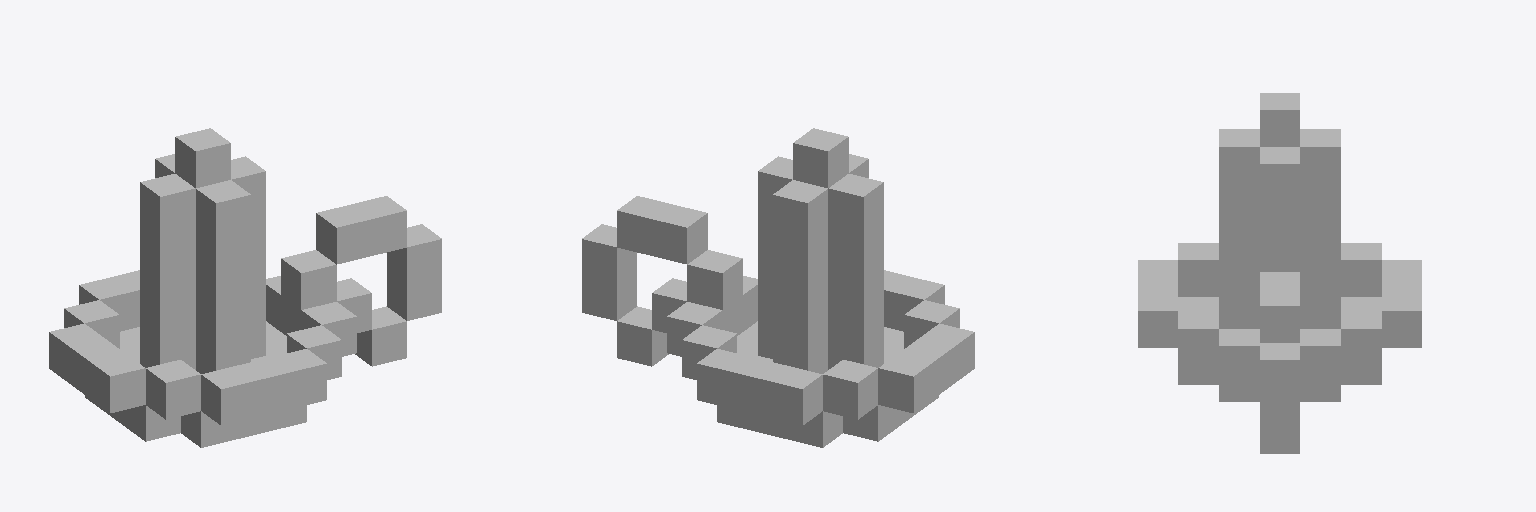
File: Candle.obj
3 renders of one model, left to right at view 1: azimuth 30°, elevation 25°; view 2: azimuth 150°, elevation 25°; view 3: azimuth 270°, elevation 25°, orthographic.
Visible parts, largest first — view 1: Candle; view 2: Candle; view 3: Candle.
Boxes of the visible parts, <box> form: Candle: <box>49,128,441,447</box>; Candle: <box>582,128,974,447</box>; Candle: <box>1138,93,1421,453</box>.
Size of the model in its own units: 10 by 7 by 7.